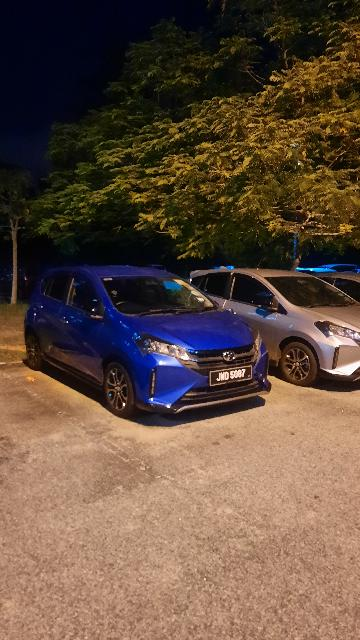License_Plate: (209, 366, 255, 389)
car: (23, 263, 276, 414), (192, 267, 360, 390)
